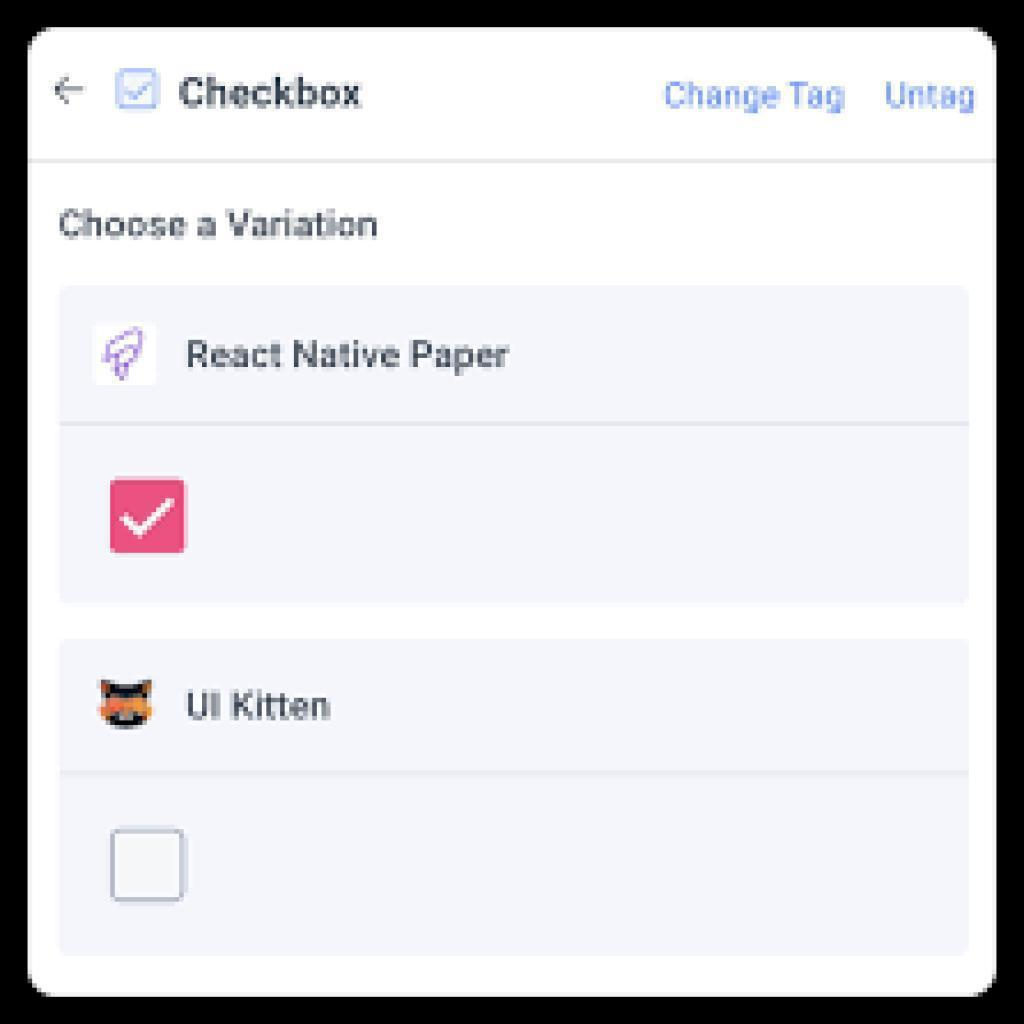checkbox: (111, 825, 187, 902), (108, 479, 184, 550), (115, 68, 160, 111)
icon: (50, 70, 92, 110)
label: (659, 70, 849, 121), (881, 72, 979, 120)
